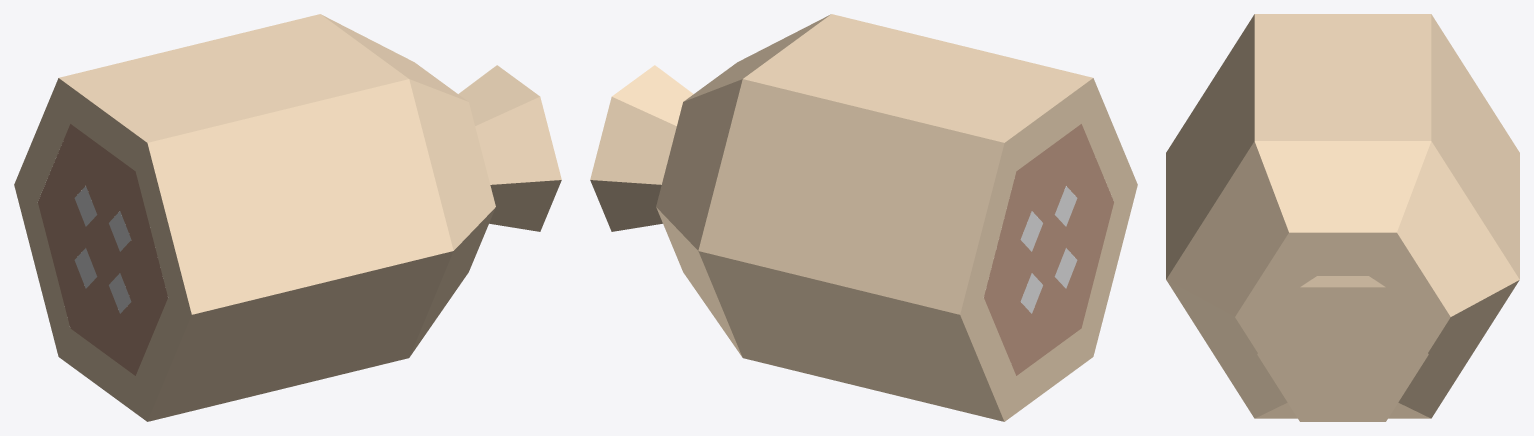
The picture shows the model from 3 angles, left to right: view 1: azimuth 30°, elevation 25°; view 2: azimuth 150°, elevation 25°; view 3: azimuth 270°, elevation 25°; orthographic projection.
Parts seen in each view (by area): view 1: sausageHalf; view 2: sausageHalf; view 3: sausageHalf.
Part boxes in pixels (bbox=[...]): sausageHalf: bbox=[14, 14, 561, 421]; sausageHalf: bbox=[590, 14, 1137, 421]; sausageHalf: bbox=[1166, 14, 1519, 421].
Size of the model in its own units: 0.1853 by 0.1189 by 0.1373.
